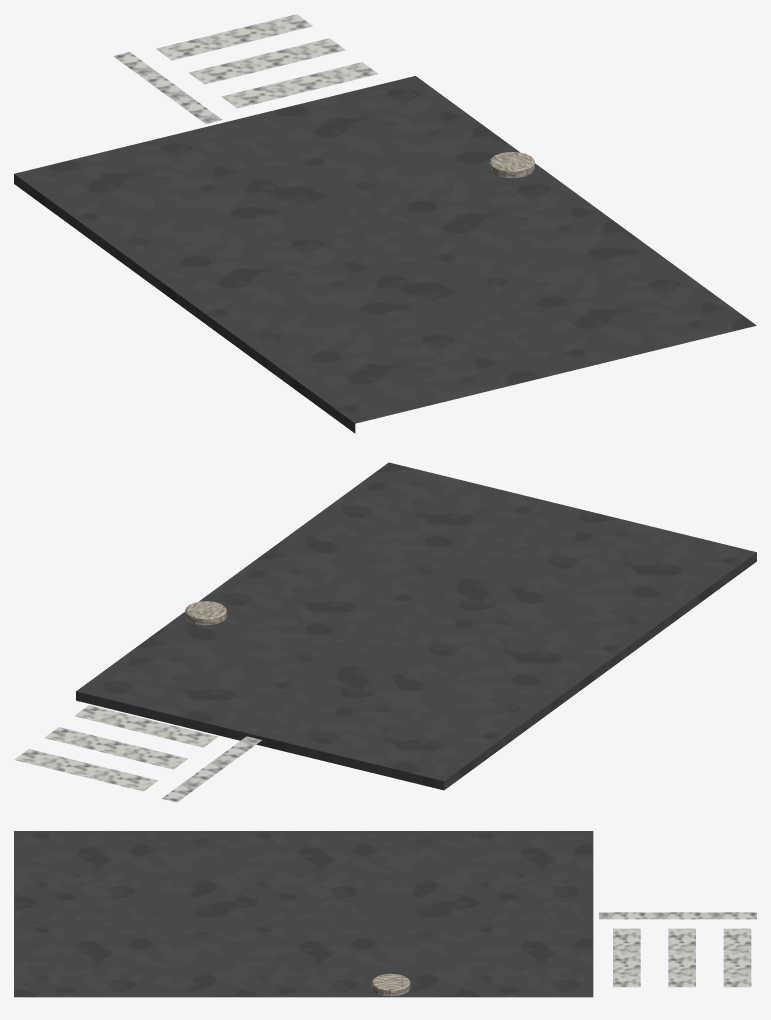
The model's file is SM_Viale_Incrocio_Asfalto.fbx.
3 views of the same model, one above another, from view 1: azimuth 30°, elevation 25°; view 2: azimuth 150°, elevation 25°; view 3: azimuth 270°, elevation 25° (orthographic). The views are drawn at different scales.
Visible parts, largest first — view 1: SM_Viale_Incrocio_Asfalto; view 2: SM_Viale_Incrocio_Asfalto; view 3: SM_Viale_Incrocio_Asfalto.
Part boxes in pixels (left/top/right/bottom): SM_Viale_Incrocio_Asfalto: left=14, top=14, right=756, bottom=433; SM_Viale_Incrocio_Asfalto: left=14, top=462, right=756, bottom=802; SM_Viale_Incrocio_Asfalto: left=14, top=831, right=756, bottom=997.
Size of what is drawn, in the model's own units: 710 by 1340 by 30.
3 materials, 3 textured.
